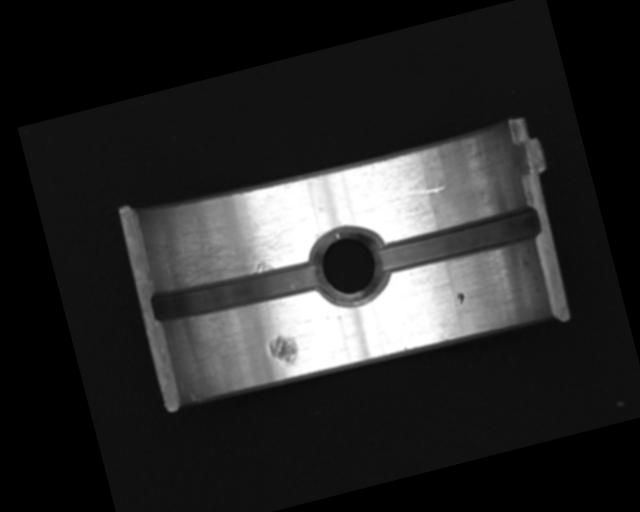bruise: (264, 329, 300, 370), (455, 290, 467, 307)
gap: (148, 250, 326, 331), (373, 204, 542, 277)
hole: (304, 217, 394, 314)
nick: (388, 177, 447, 204)
scratch: (152, 192, 317, 298)
